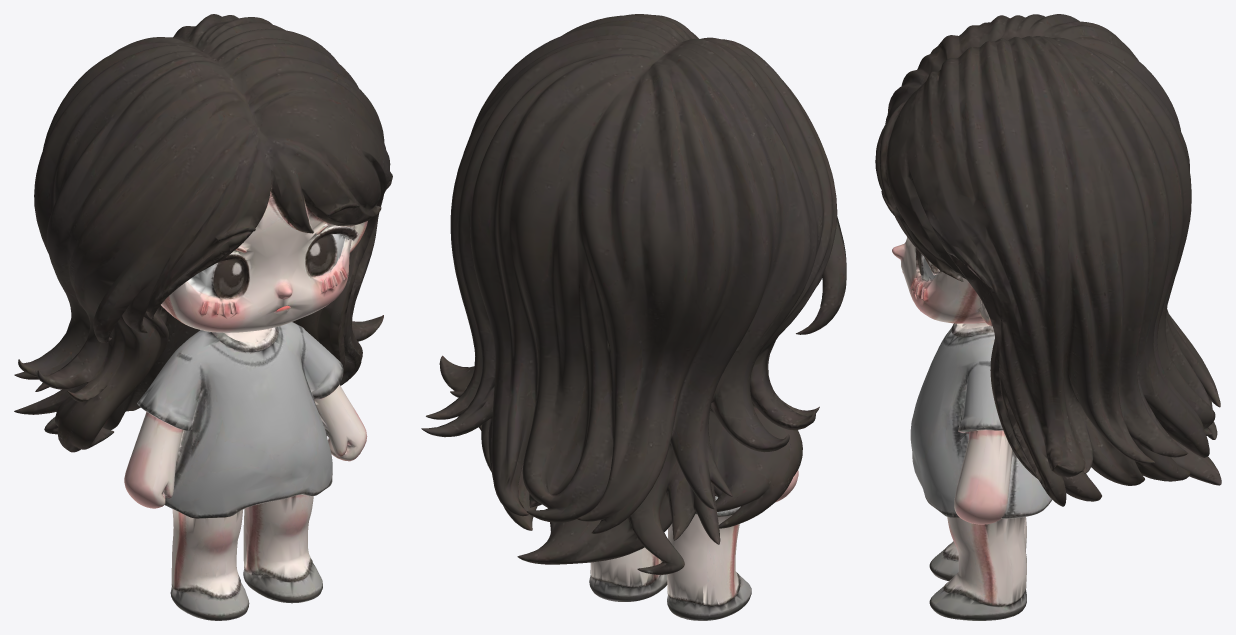
The model's file is mascot.glb.
The picture shows the model from 3 angles, left to right: view 1: azimuth 30°, elevation 25°; view 2: azimuth 150°, elevation 25°; view 3: azimuth 270°, elevation 25°; orthographic projection. The views are drawn at different scales.
Parts seen in each view (by area): view 1: node_0; view 2: node_0; view 3: node_0.
Boxes of the visible parts, bbox=[...] form: node_0: bbox=[14, 14, 392, 620]; node_0: bbox=[421, 14, 846, 620]; node_0: bbox=[875, 14, 1221, 620].
Size of the model in its own units: 0.7455 by 1.11 by 0.6291.
1 material, 1 textured.
